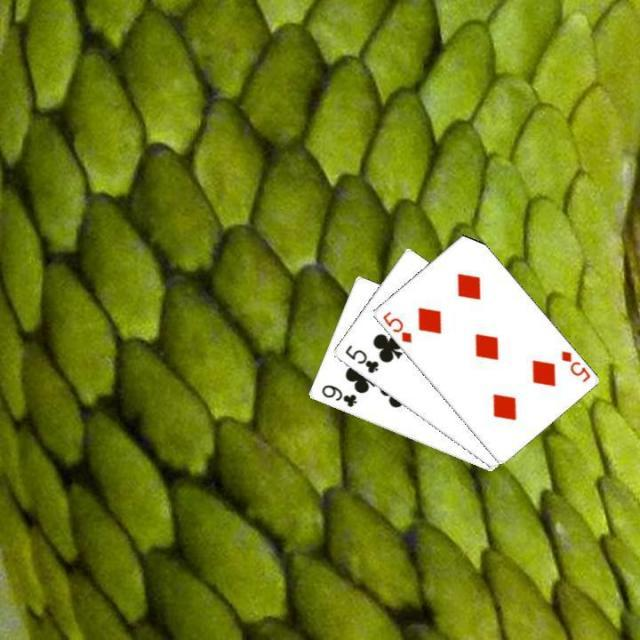5C: (340, 341, 380, 375)
5D: (556, 346, 592, 384), (378, 307, 413, 345)
9C: (317, 381, 359, 408)
